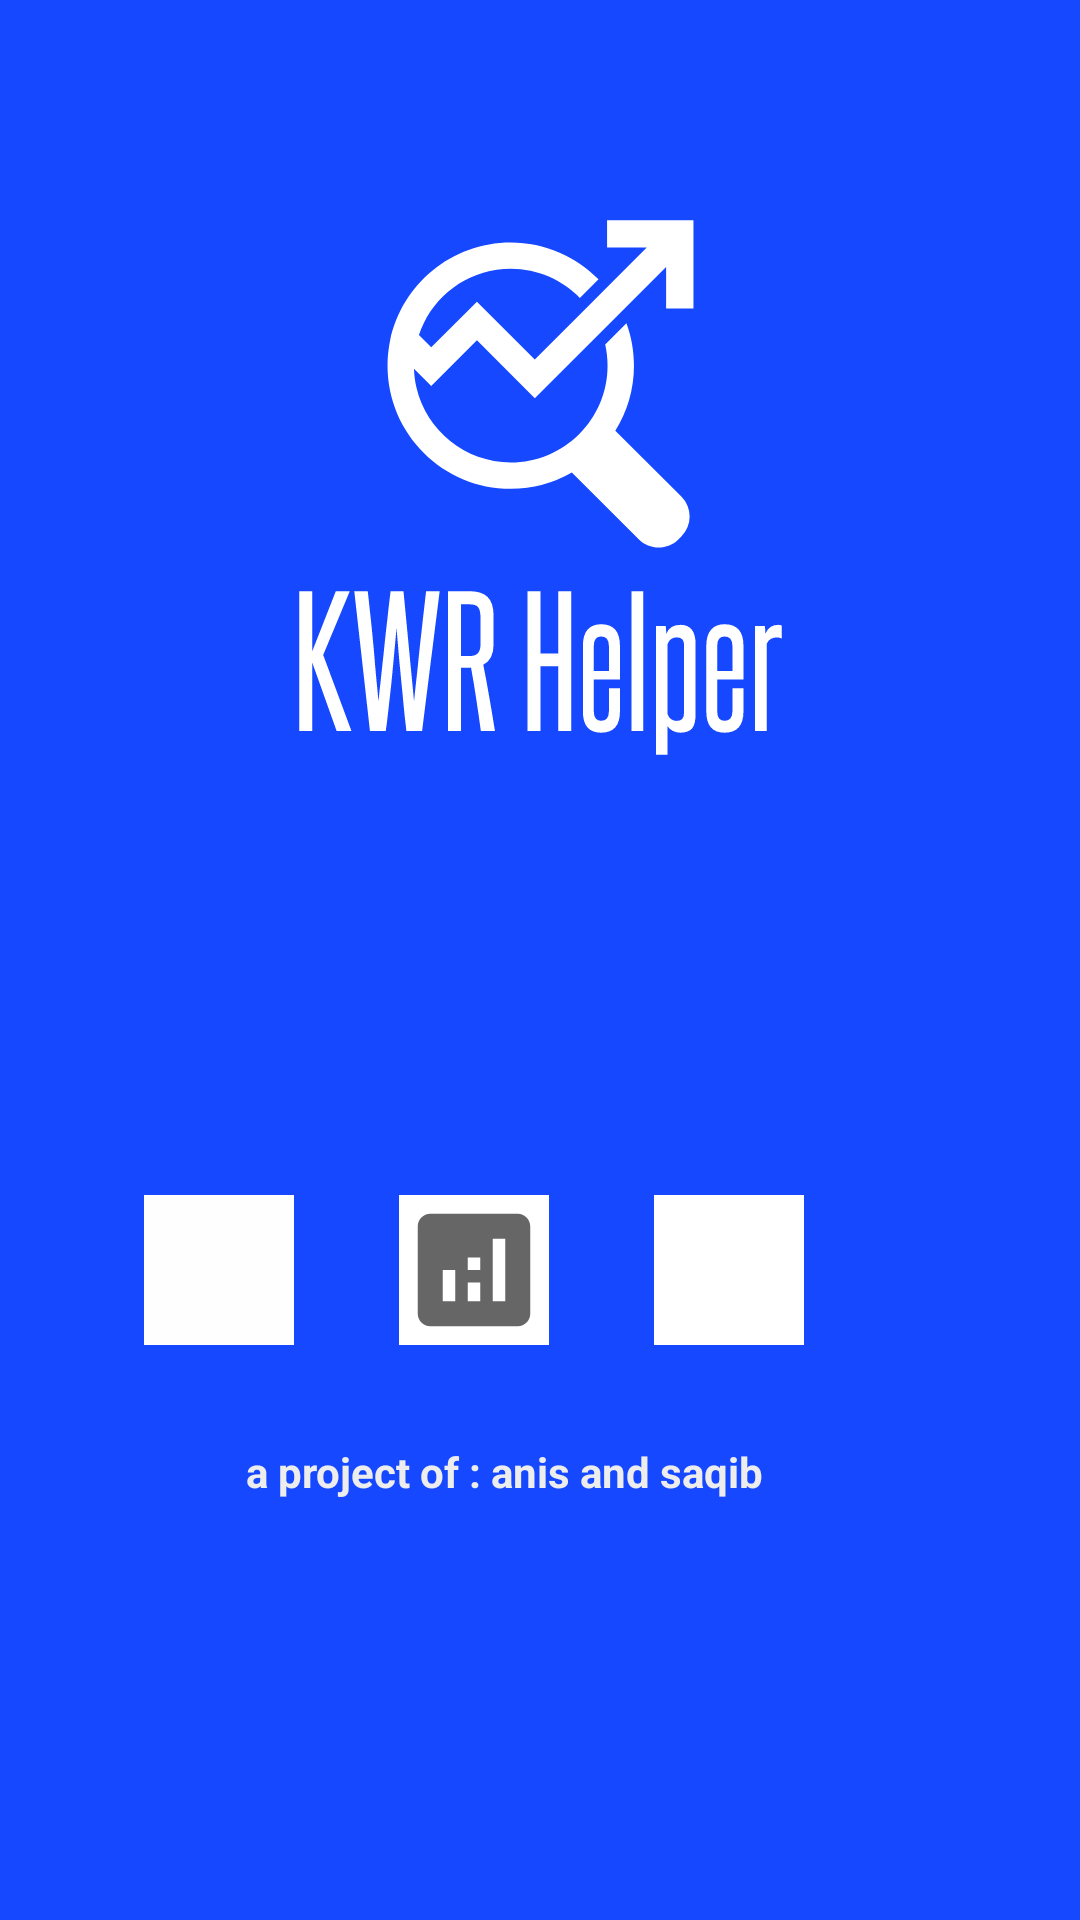

Screen size 1080w x 1920h. Icon name, then its box in pixels as (x1, y1, x2, y2):
analytics: (399, 1195, 549, 1345)
